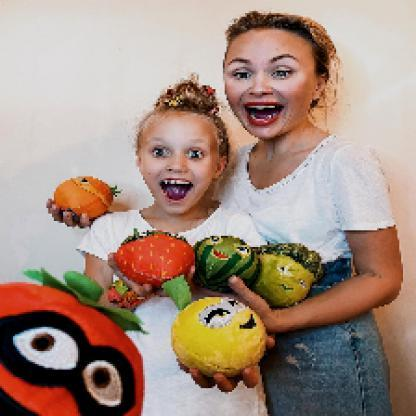child: (72, 75, 273, 415)
